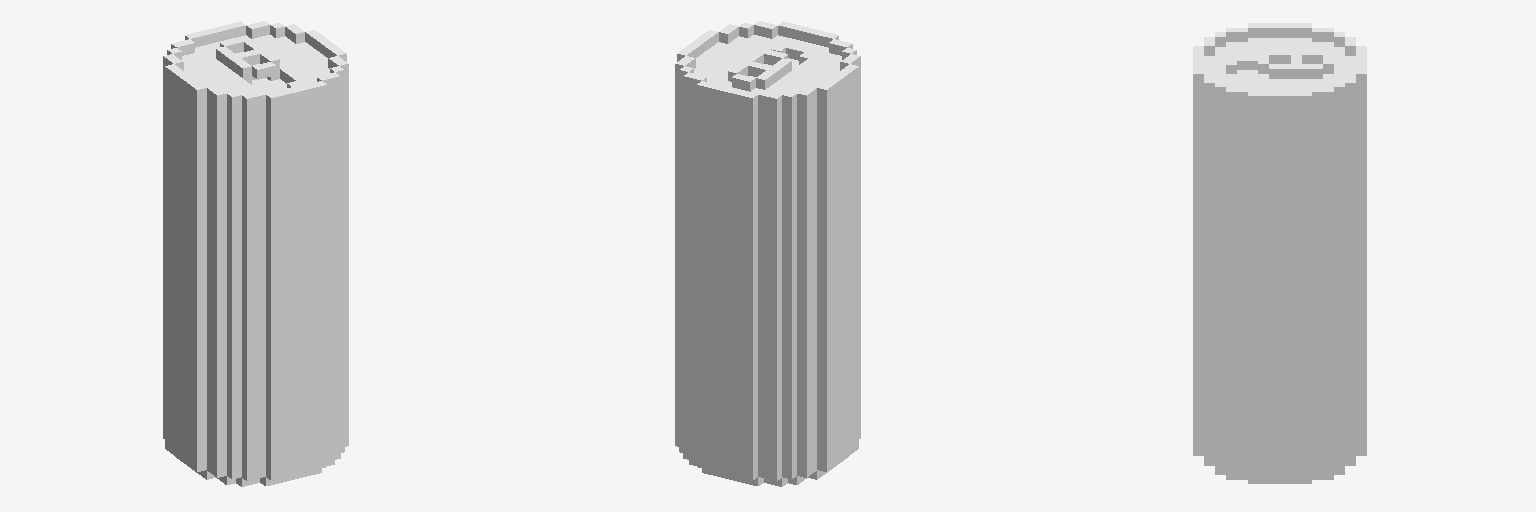
Rendered from red_bull_can.obj.
3 renders of one model, left to right at view 1: azimuth 30°, elevation 25°; view 2: azimuth 150°, elevation 25°; view 3: azimuth 270°, elevation 25°, orthographic.
Parts seen in each view (by area): view 1: object 1; view 2: object 1; view 3: object 1.
Part boxes in pixels (x1,y1,x2,y2): object 1: (163,21,348,486); object 1: (675,21,860,486); object 1: (1193,23,1366,483).
Bounding box in the file's own units: 1.6 × 4 × 1.6.